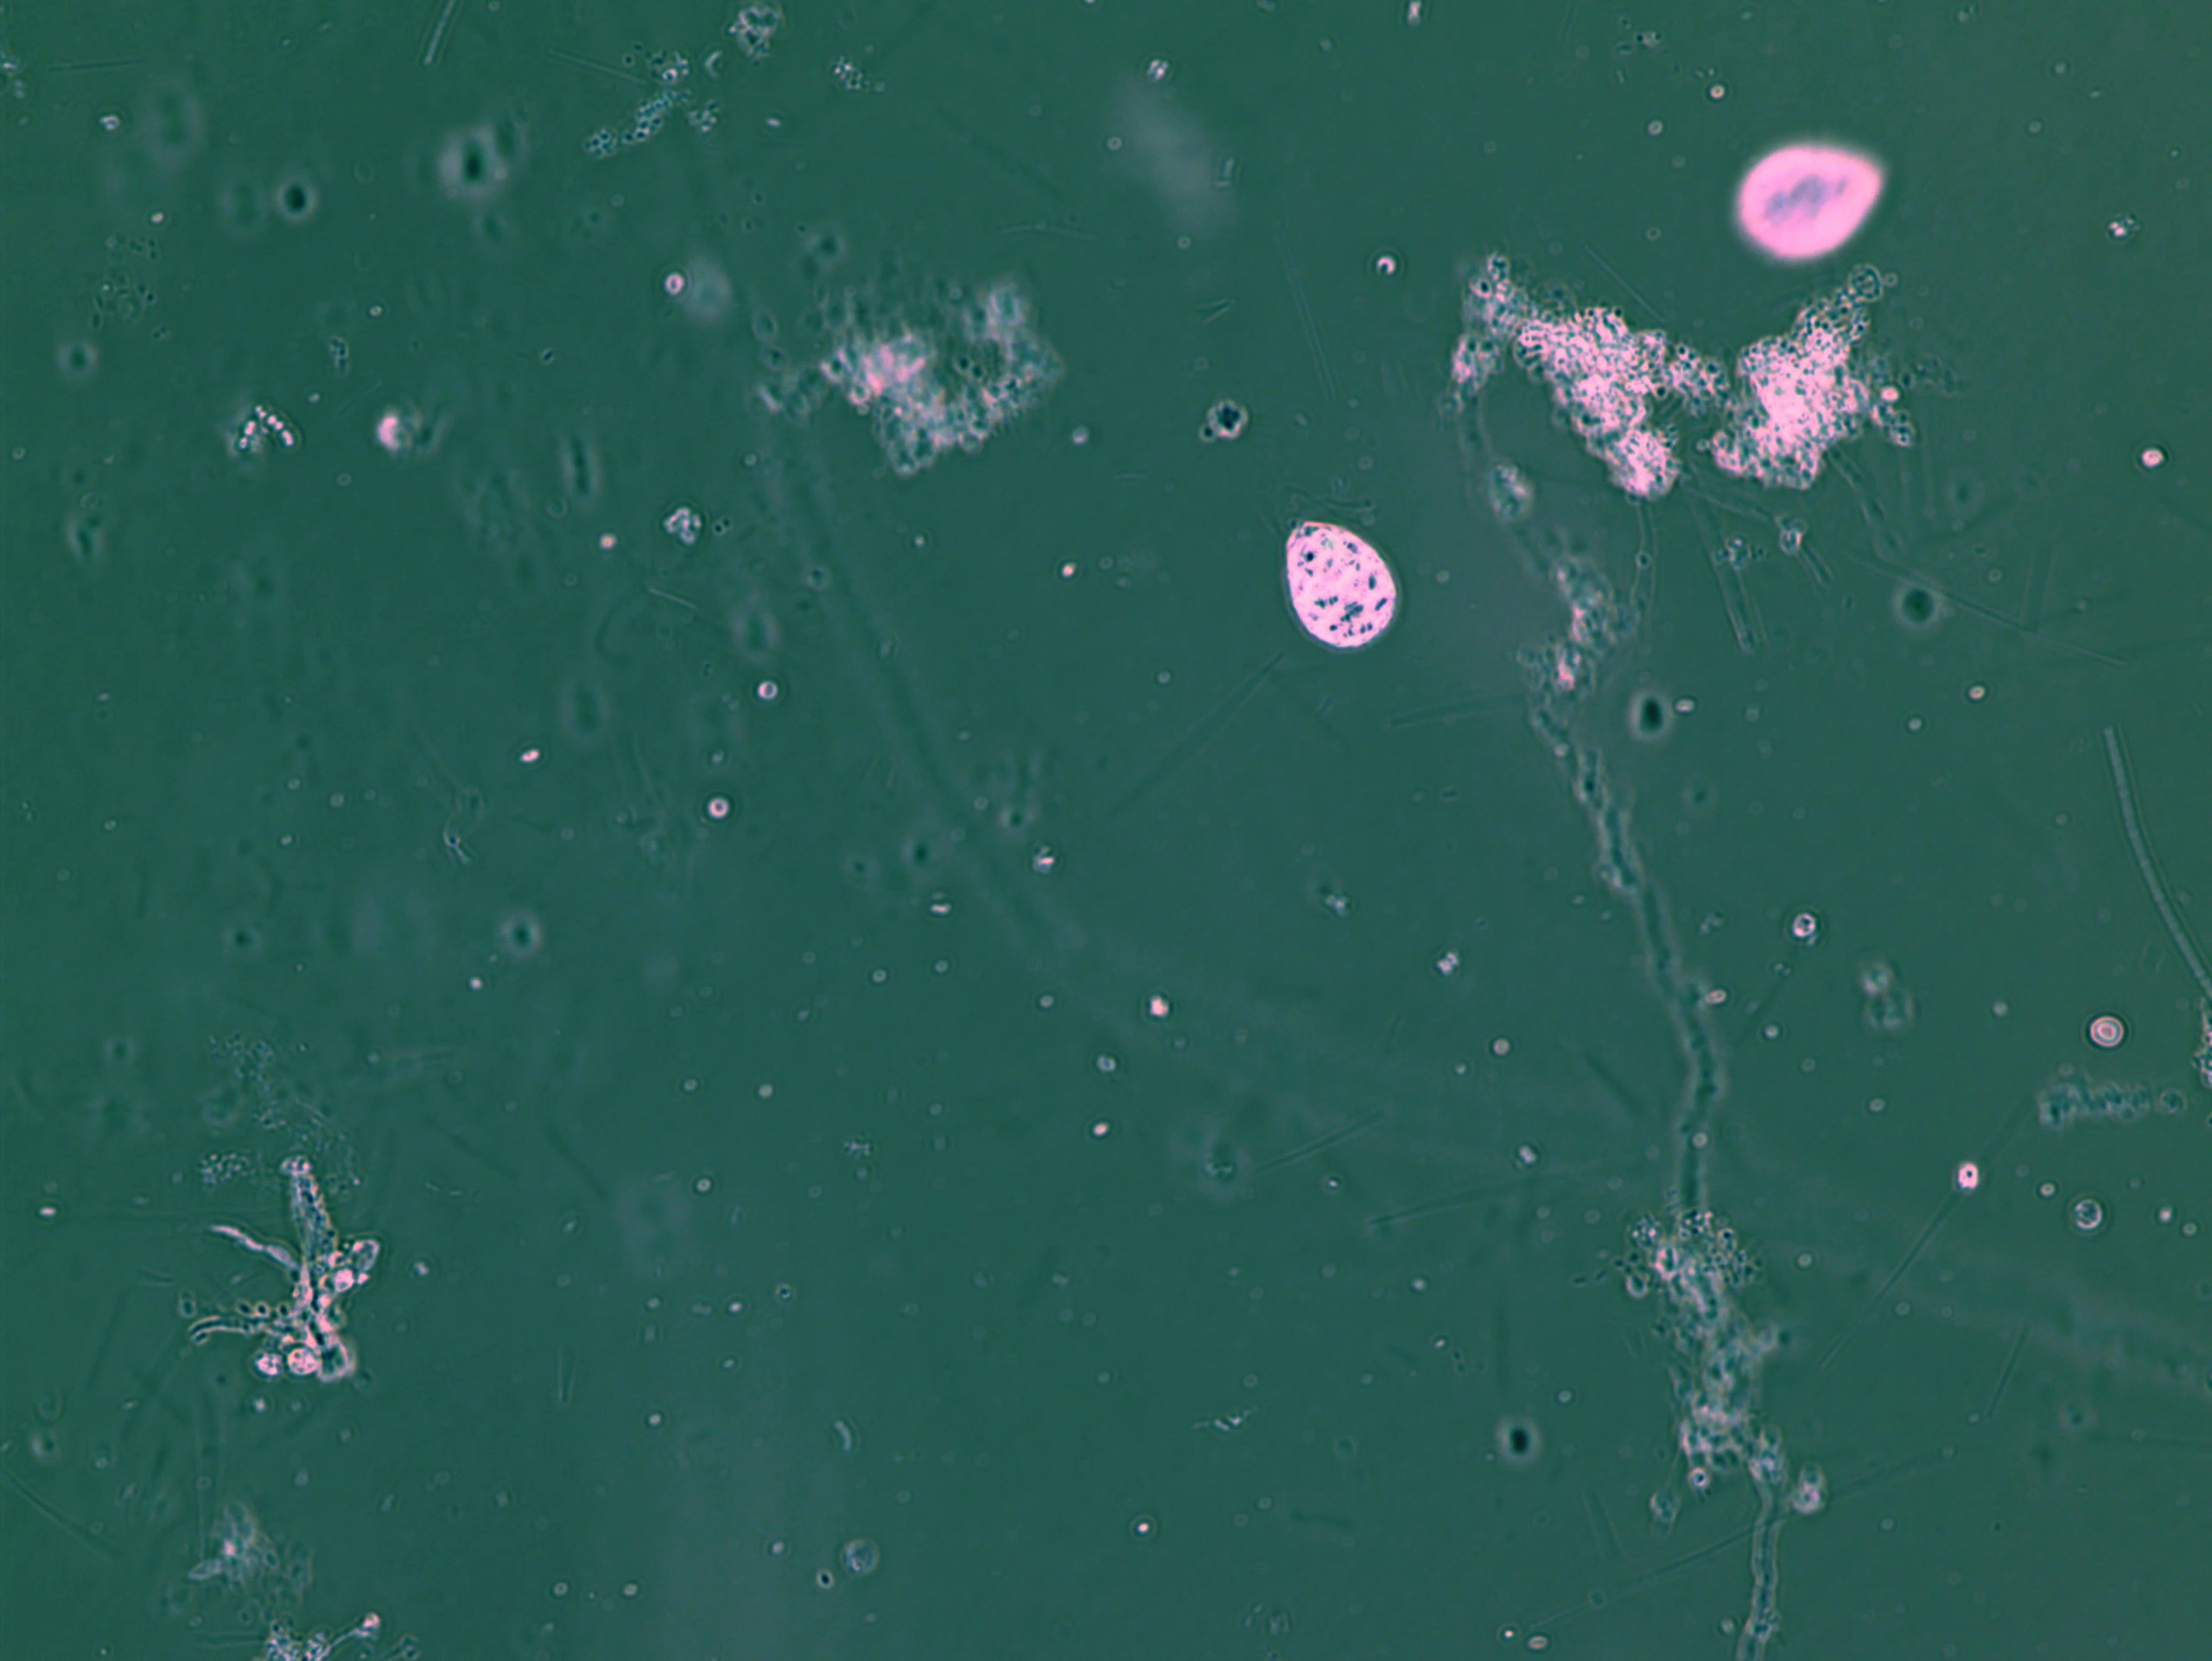depth:0: (1265, 497, 1430, 660)
